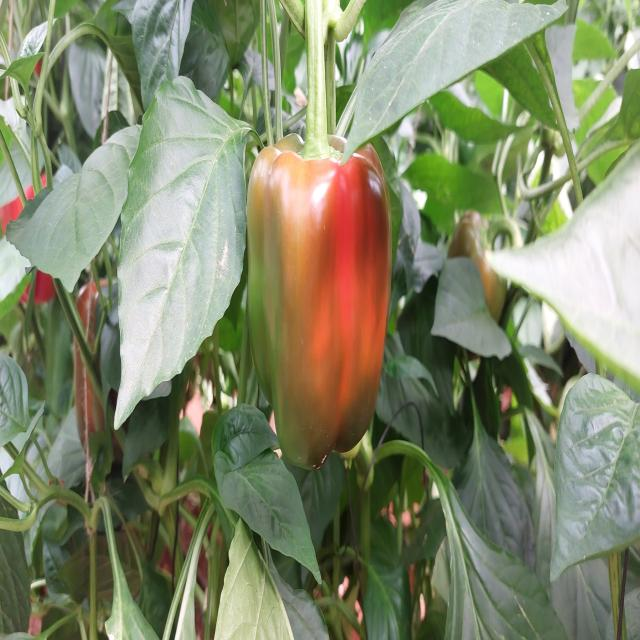BrownishRed--Can-be-Harvested: (242, 129, 394, 474)
